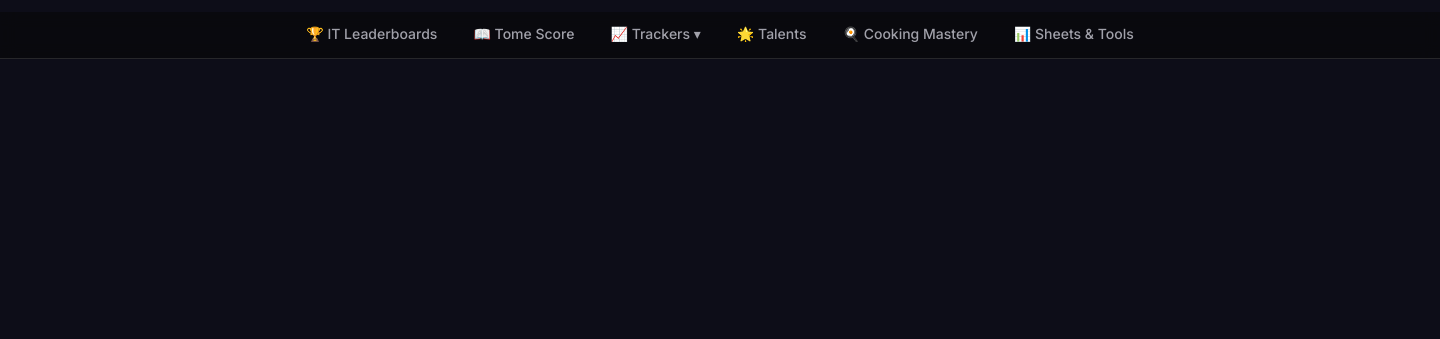
Test case: TopNav › opens the Trackers list on click, right after its button, with every tracker
Click the button "📈 Trackers ▾" at (656, 35), box [594, 12, 717, 58]
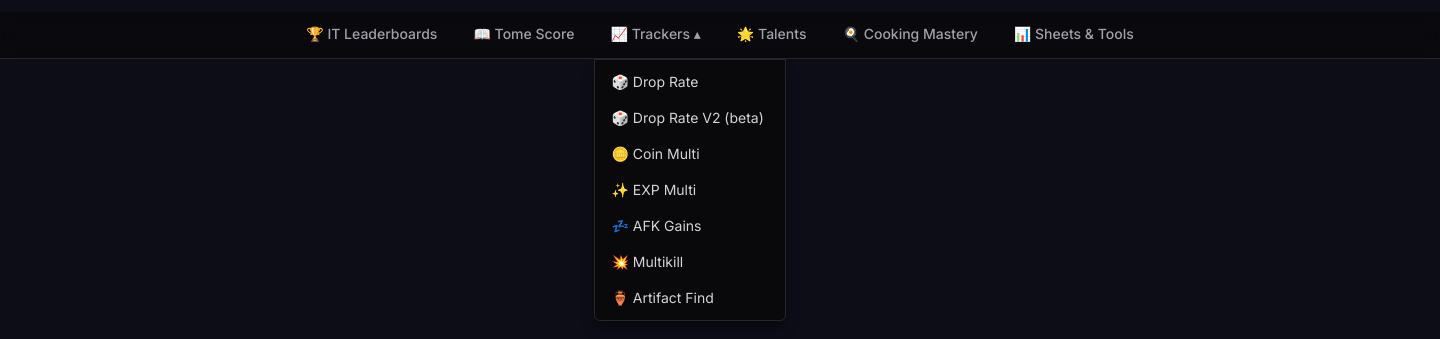
Now the button "📈 Trackers ▴" is expanded, box [594, 12, 717, 58]
